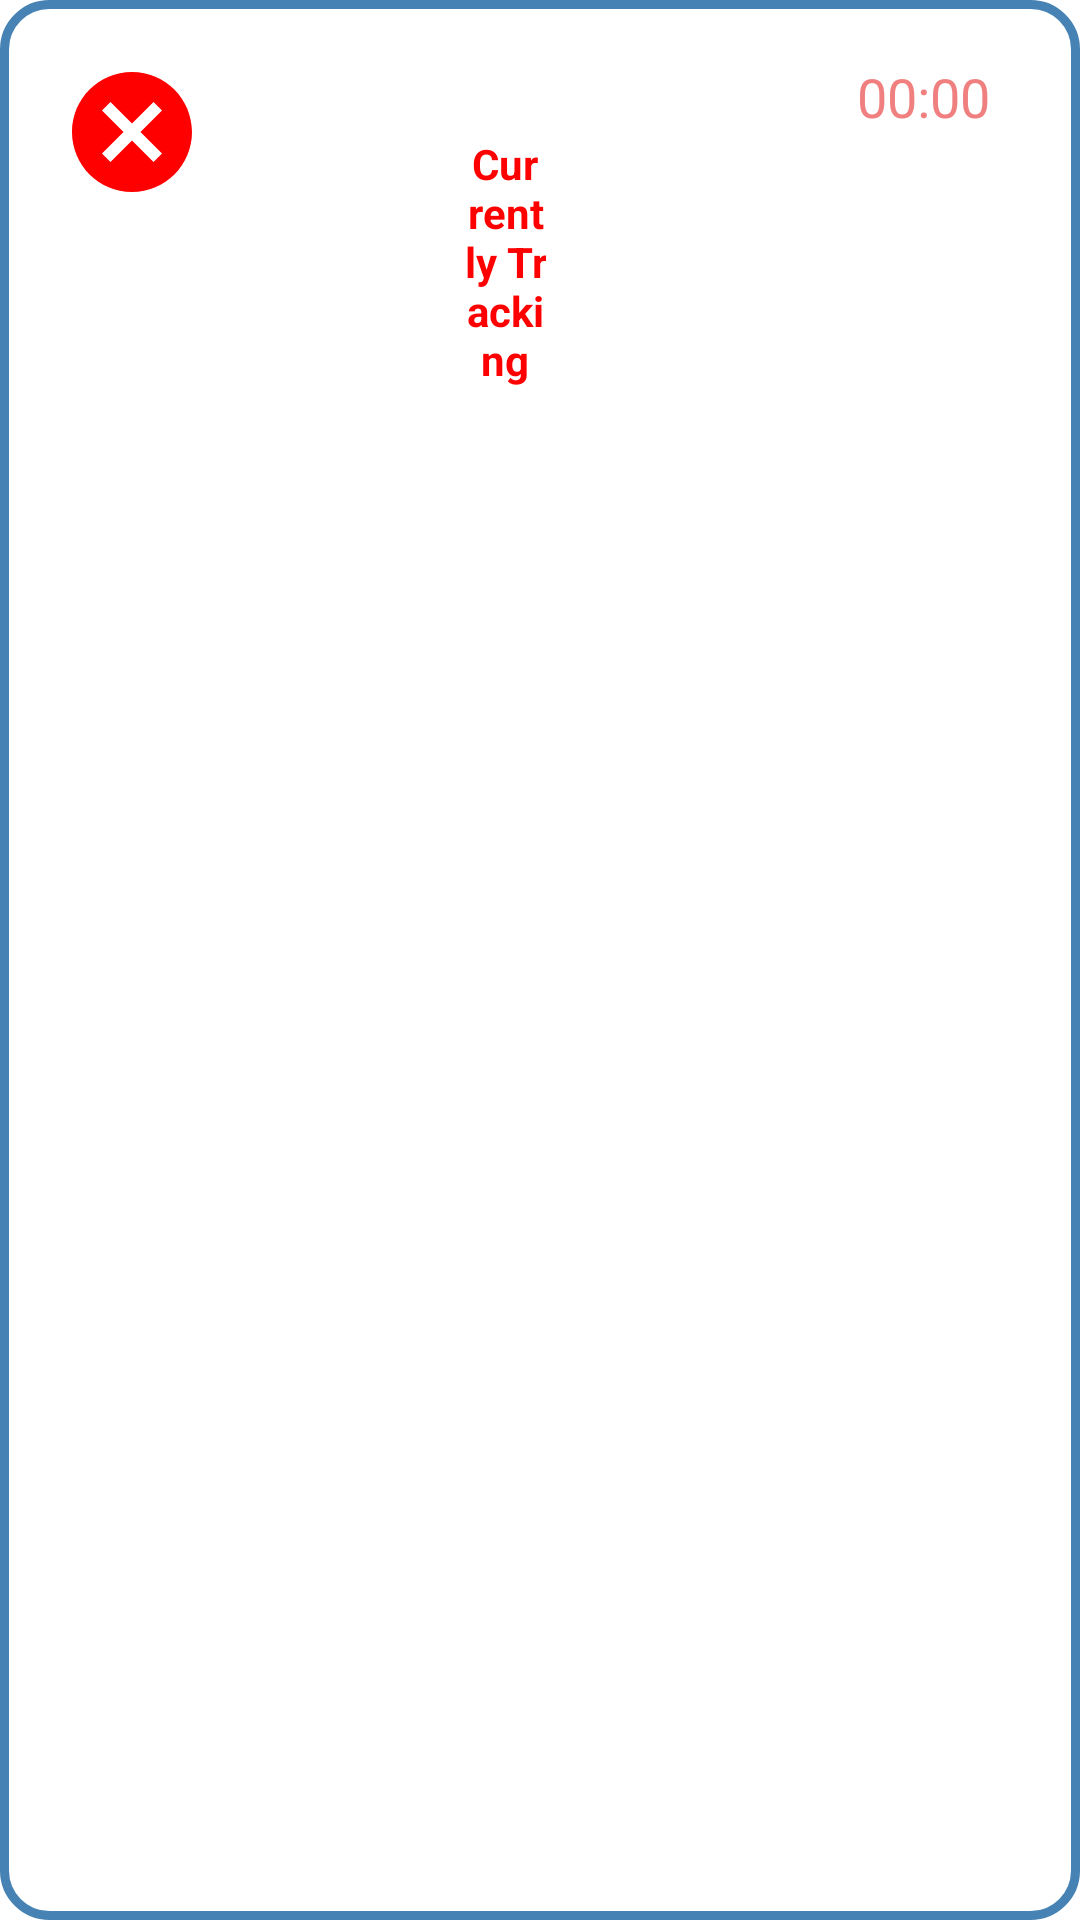

Screen size 1080w x 1920h. Icon name, then its center in pixels as [x,y]:
cancel route: [132,132]
